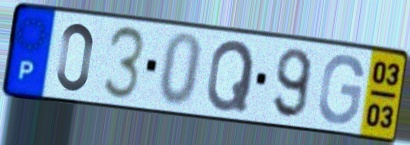0: (154, 30, 207, 111), (55, 21, 95, 94)
3: (101, 23, 147, 104)
9: (271, 46, 315, 121)
G: (315, 51, 366, 127)
Q: (203, 38, 257, 114)
